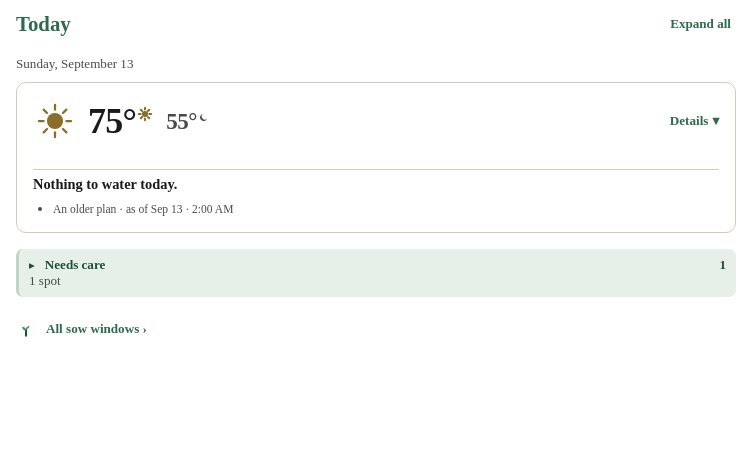
Test: SILENT — every plan date since it reached prod, on the rain that actually fell › the peak day (2026-09-13, 10 dry days) renders a real plan with no drought line and no list
Click the button "75° 55° Details ▾ Nothing to water today." at point(61, 106), box x1=33 y1=99 x2=719 y2=194
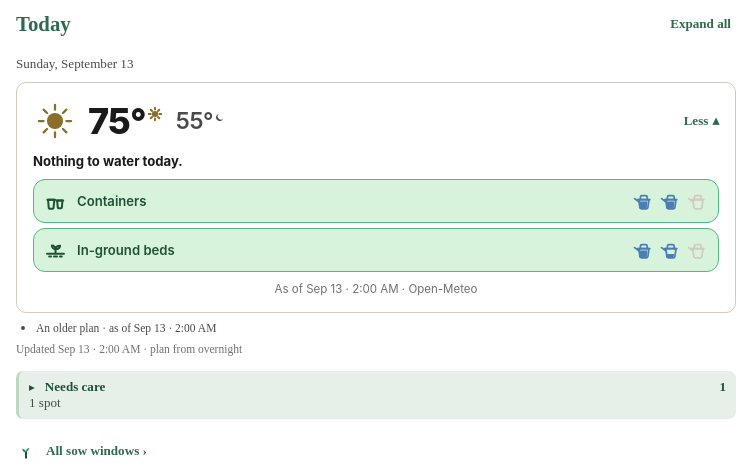
Now the element with test id "today-weather" is shown, box x1=16 y1=82 x2=736 y2=313
